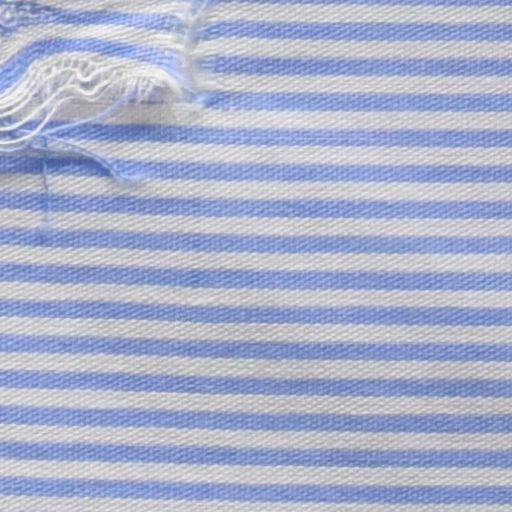defect: (1, 1, 210, 238)
